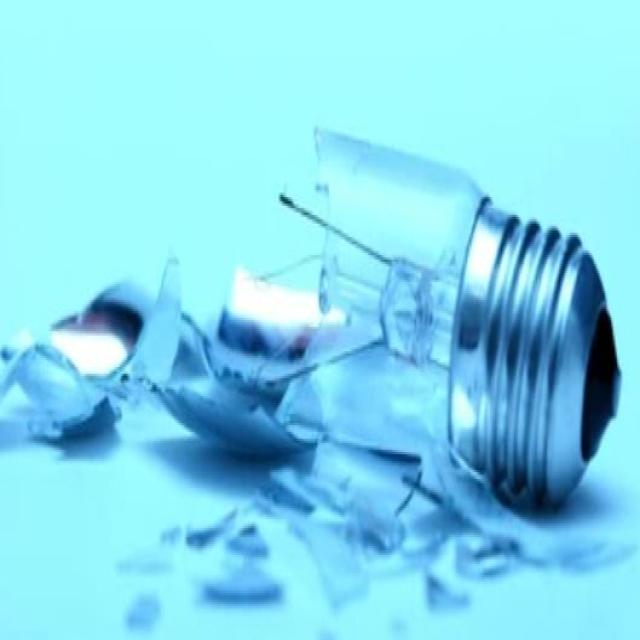electronic: (299, 123, 622, 513)
